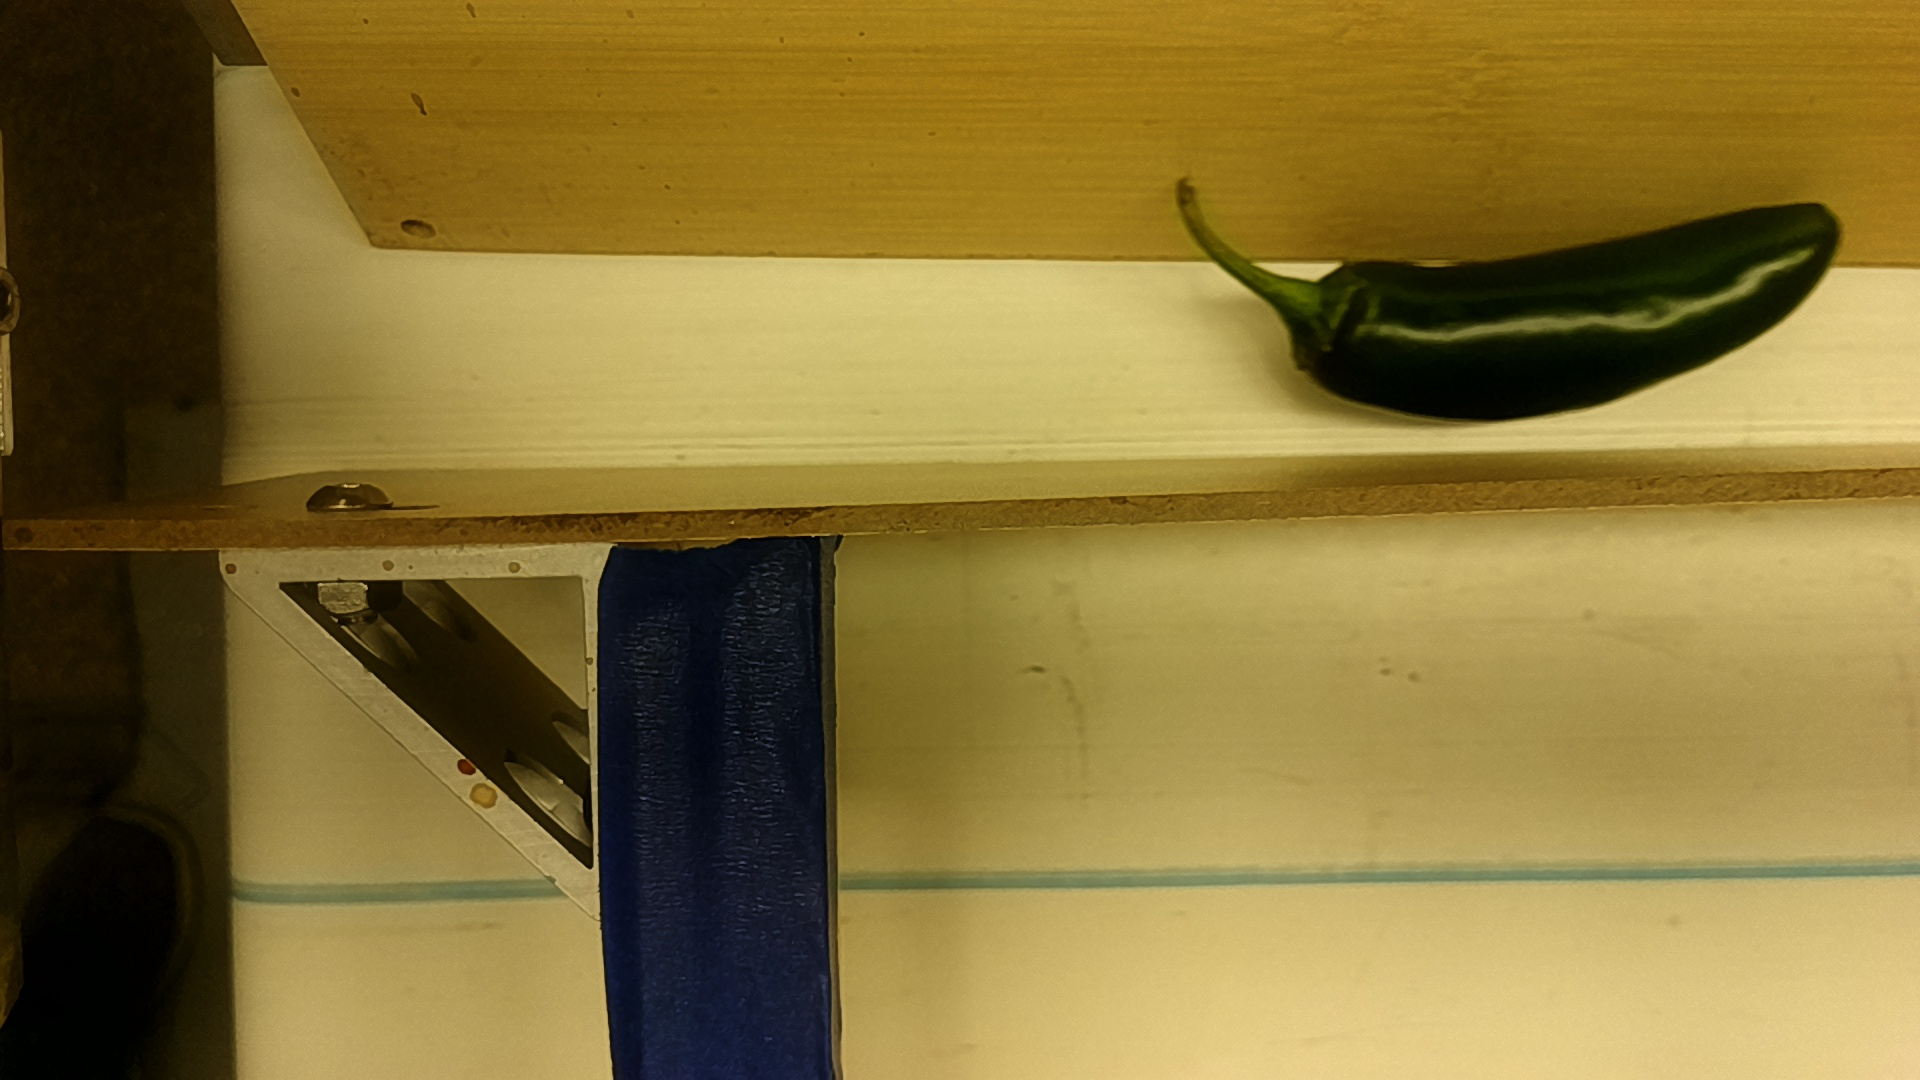Cut Point: (1288, 248, 1379, 410)
